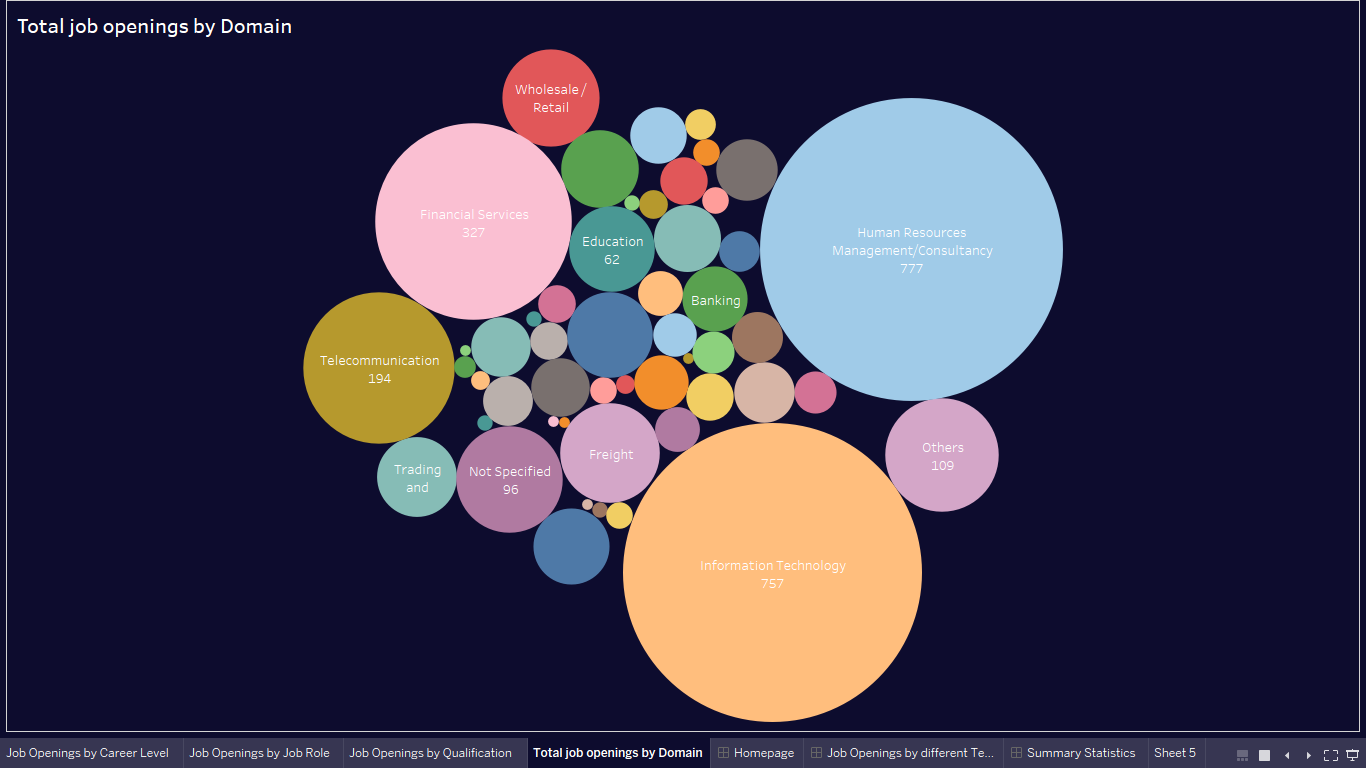

The page's visual inventory and layout, read from the dashboard file:
{"tool":"tableau","page":{"name":"Job Openings by different Terms","canvas":[1000,1000],"units":"permille","ordinal":1},"visuals":[{"type":"worksheet","box":[0,0,1000,1000]},{"type":"worksheet","param":"vert","box":[6.9,13.5,986.1,973]},{"type":"worksheet","box":[6.9,13.5,986.1,101.4]},{"type":"worksheet","box":[6.9,114.9,986.1,871.6]},{"type":"worksheet","title":"Job Openings by Job Role","mark":"Automatic","rows":["Search Term"],"cols":["Calculation_752101160421584897"],"box":[6.9,114.9,493,435.7]},{"type":"worksheet","title":"Job Openings by Qualification","mark":"Automatic","rows":["Calculation_752101160421584897"],"cols":["Qualification"],"box":[499.9,114.9,493.2,435.7]},{"type":"worksheet","title":"Total job openings by Domain","mark":"Circle","box":[6.9,550.6,493,435.9]},{"type":"worksheet","title":"Job Openings by Career Level","mark":"Pie","box":[499.9,550.6,493.2,435.9]}]}

Visuals, with their boxes on the dashboard's canvas, which has no fixed pixel size, in thousandths of its width and height (x1, y1, x2, y2). These are canvas units, not pixel positions in the 1366x768 screenshot, which may show the page scaled, cropped or inside an application window:
worksheet: rect(0, 0, 1000, 1000)
worksheet: rect(7, 14, 993, 986)
worksheet: rect(7, 14, 993, 115)
worksheet: rect(7, 115, 993, 986)
"Job Openings by Job Role" worksheet: rect(7, 115, 500, 551)
"Job Openings by Qualification" worksheet: rect(500, 115, 993, 551)
"Total job openings by Domain" worksheet (Circle marks): rect(7, 551, 500, 986)
"Job Openings by Career Level" worksheet (Pie marks): rect(500, 551, 993, 986)
